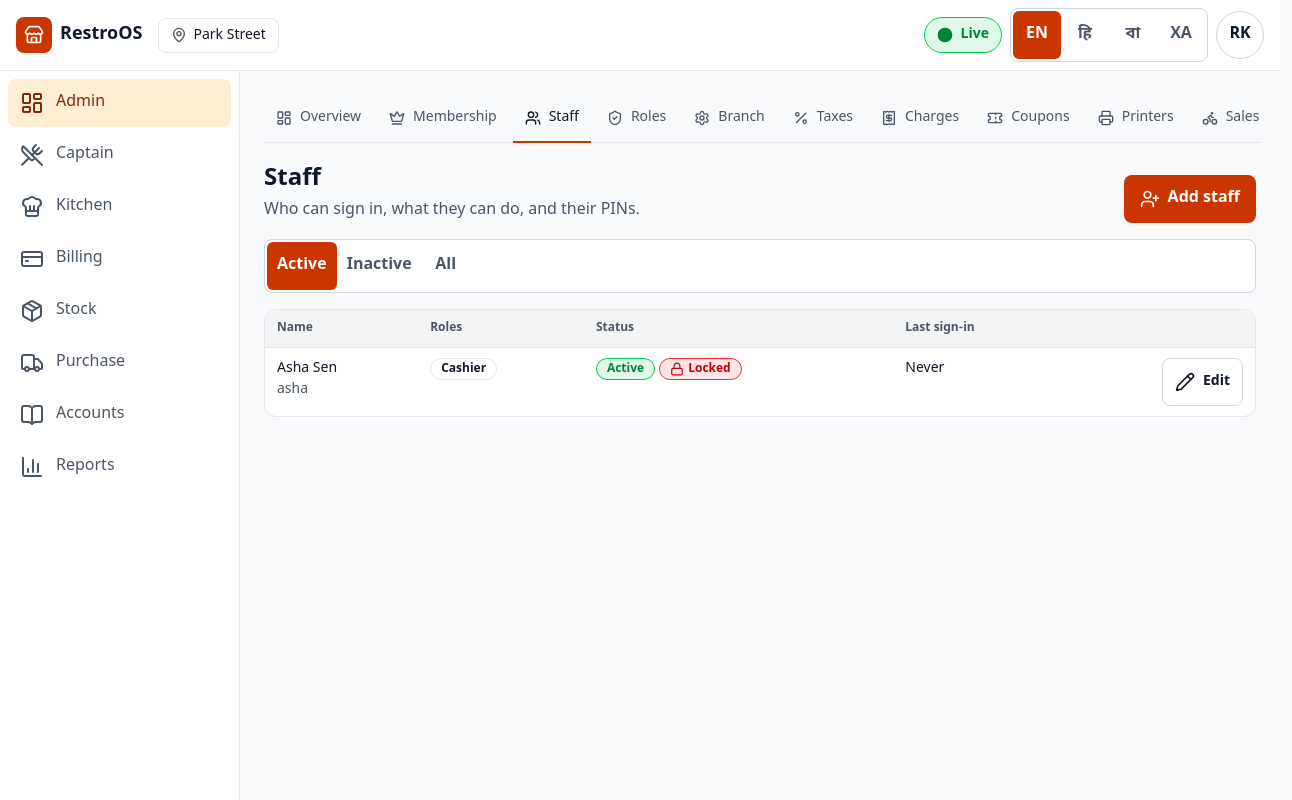
Scenario: Staff page › lists staff with roles and a locked badge, filtered by status
This screenshot has width=1292, height=800.
expect the text "Cashier" is shown: met, box [430,358,497,380]
expect the text "Locked" is shown: met, box [659,358,742,380]
What coordinates should you click on to do the following:
click the radio button labelled "Inactive"
I would click on:
 (379, 266)
Its box is [337,242,422,290].
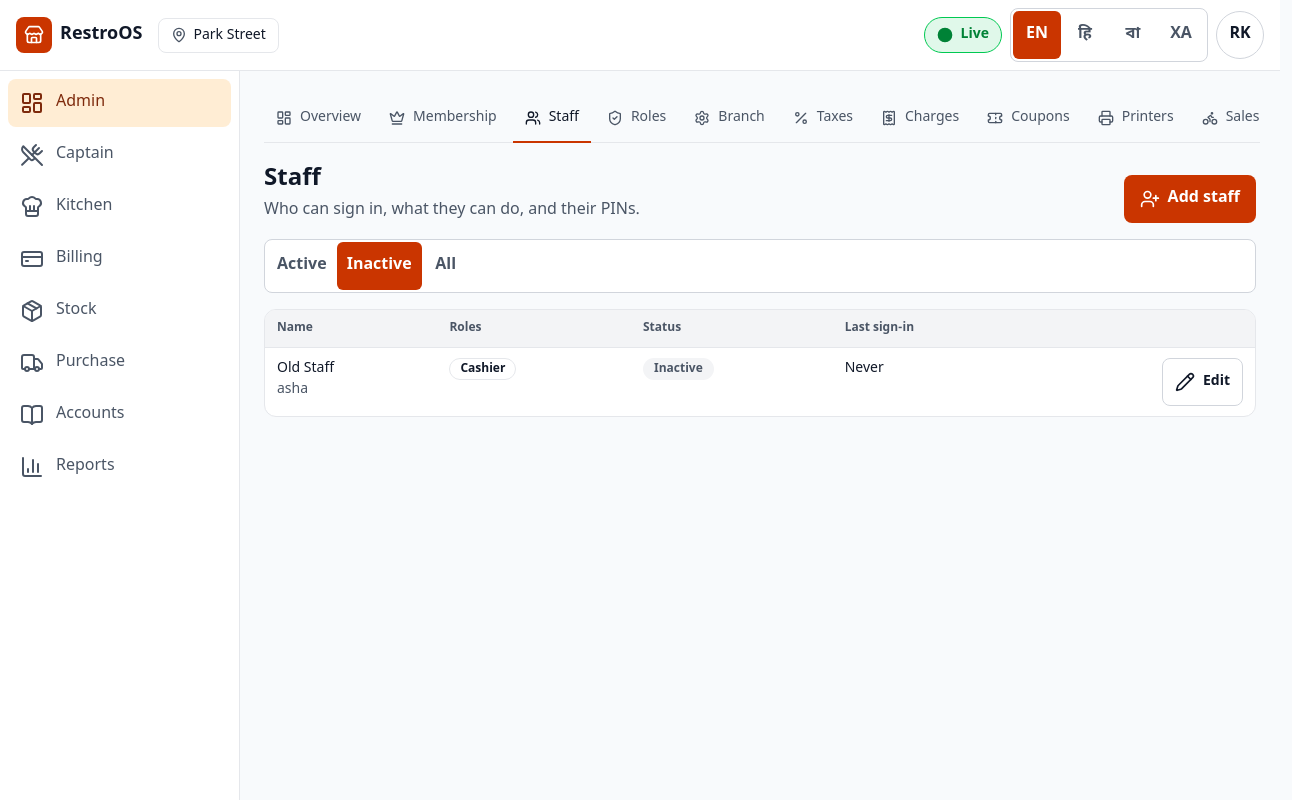
expect the text "Old Staff" is shown: met, box [277,358,334,378]
